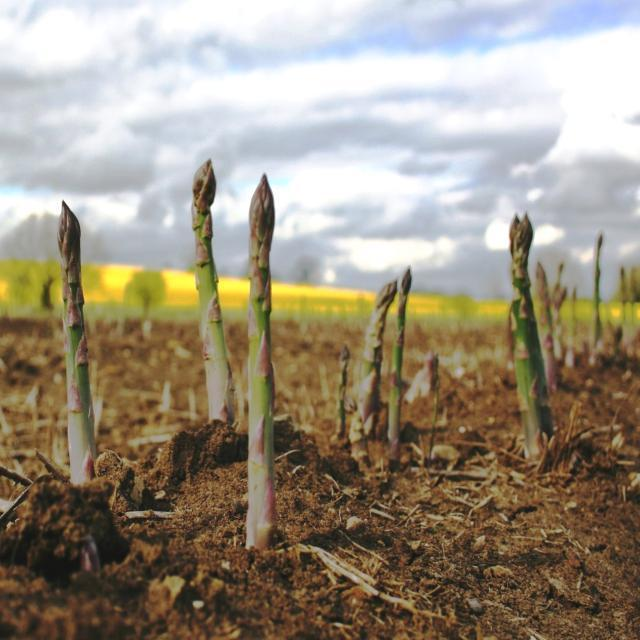aspargus: (246, 175, 277, 552), (58, 202, 96, 488), (193, 161, 234, 424)
